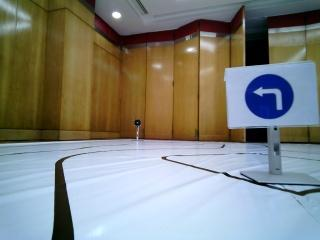left: (228, 65, 311, 125)
